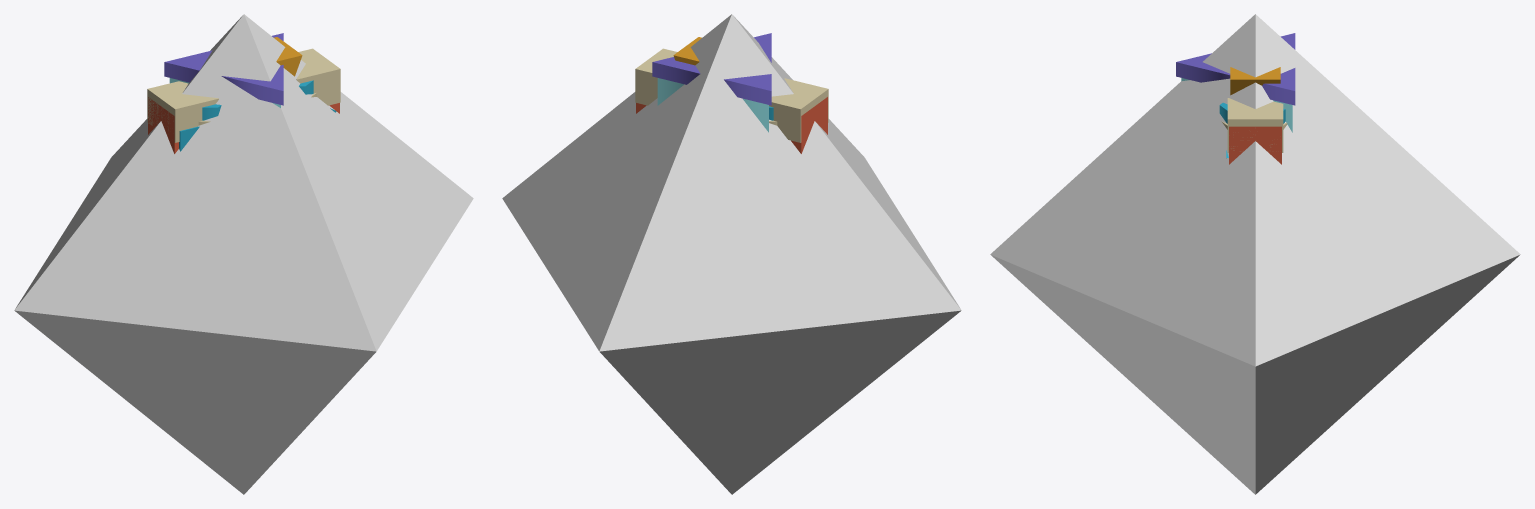
File: bonus-models.glb
The picture shows the model from 3 angles, left to right: view 1: azimuth 30°, elevation 25°; view 2: azimuth 150°, elevation 25°; view 3: azimuth 270°, elevation 25°; orthographic projection.
Visible parts, largest first — view 1: effect-smoke, bonus-magnet, bonus-invisibility, bonus-turbo; view 2: effect-smoke, bonus-magnet, bonus-invisibility; view 3: effect-smoke, bonus-magnet, bonus-invisibility, bonus-turbo.
Boxes of the visible parts, x1,y1,x2,y2 form: effect-smoke: [14, 14, 473, 494]; bonus-magnet: [147, 48, 340, 153]; bonus-invisibility: [164, 33, 283, 107]; bonus-turbo: [274, 37, 302, 76]; effect-smoke: [502, 14, 961, 494]; bonus-magnet: [635, 48, 828, 153]; bonus-invisibility: [652, 33, 771, 132]; effect-smoke: [990, 14, 1520, 494]; bonus-magnet: [1227, 98, 1283, 164]; bonus-invisibility: [1176, 33, 1295, 132]; bonus-turbo: [1230, 67, 1280, 95].
Bounding box in the file's own units: 2 × 2 × 2.
